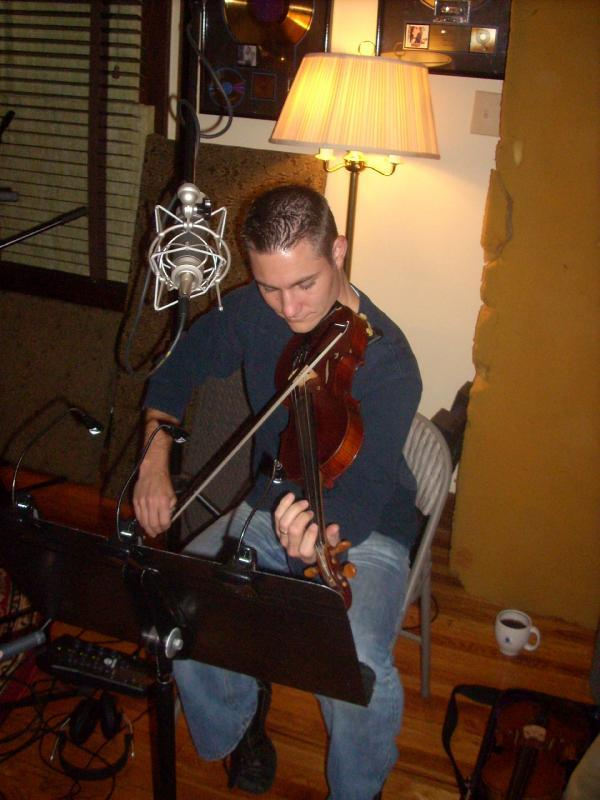person: (138, 184, 424, 800)
